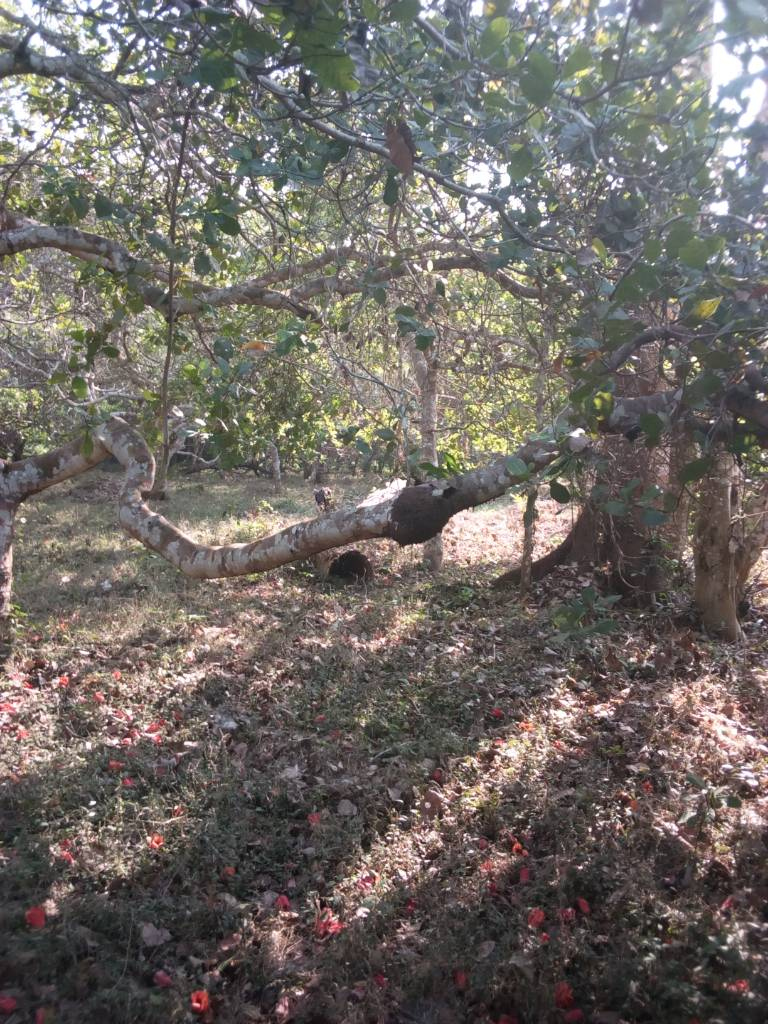Termites: (393, 488, 444, 549)
